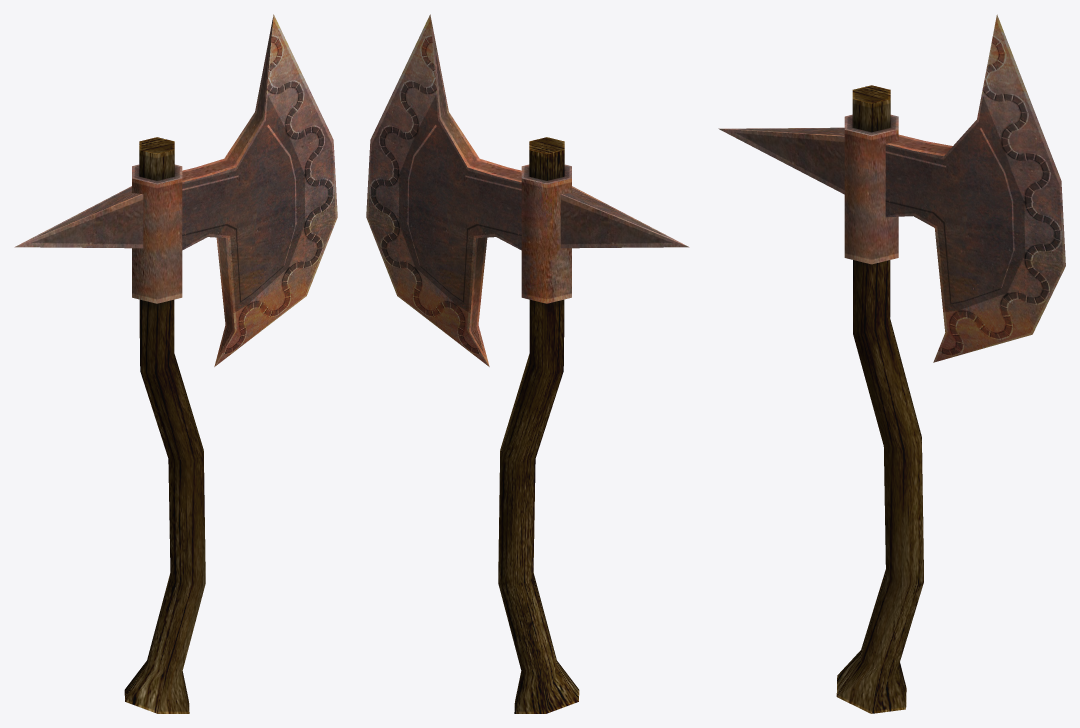
Rendered from axe07_rusty.FBX.
3 renders of one model, left to right at view 1: azimuth 30°, elevation 25°; view 2: azimuth 150°, elevation 25°; view 3: azimuth 330°, elevation 25°, orthographic. The views are drawn at different scales.
Visible parts, largest first — view 1: axe07; view 2: axe07; view 3: axe07.
Boxes of the visible parts, box(x1,y1,x2,y2) form: axe07: box(14, 14, 337, 713); axe07: box(366, 14, 689, 713); axe07: box(718, 14, 1065, 713).
Bounding box in the file's own units: 0.7192 × 1.42 × 0.1267.
